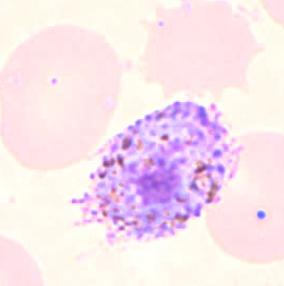Infected: (67, 101, 244, 243)
Uninfected: (0, 25, 122, 170), (138, 3, 264, 97), (205, 130, 284, 262)
